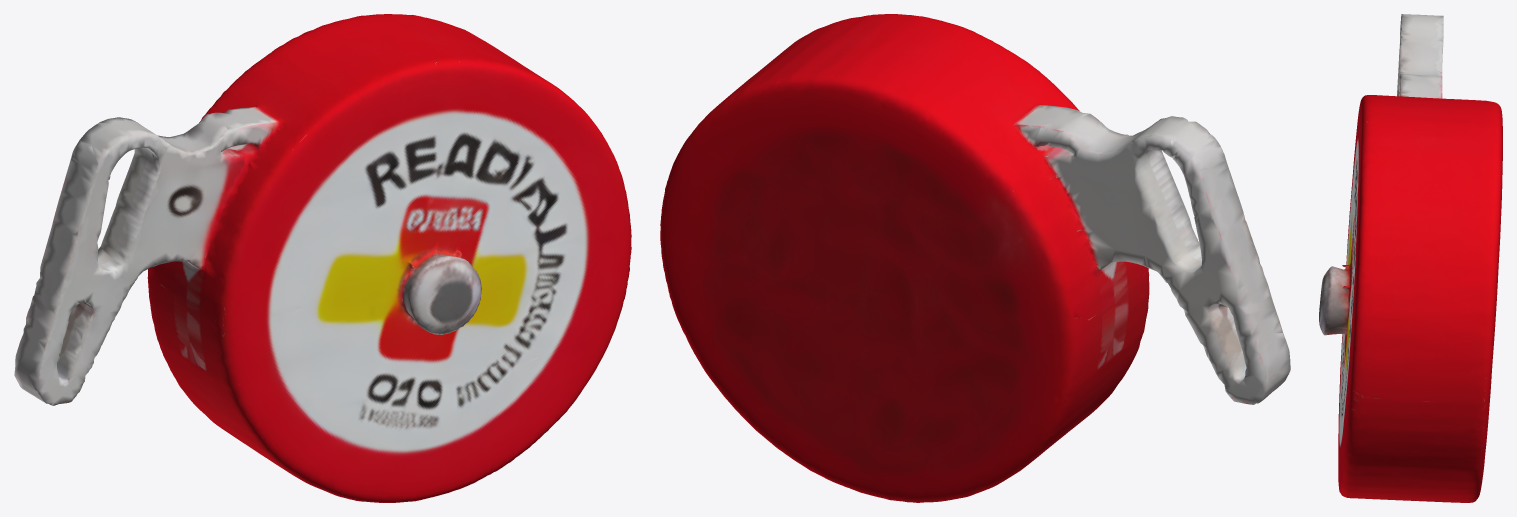
The model's file is base_basic_pbr.glb.
3 renders of one model, left to right at view 1: azimuth 30°, elevation 25°; view 2: azimuth 150°, elevation 25°; view 3: azimuth 270°, elevation 25°, orthographic. The views are drawn at different scales.
Visible parts, largest first — view 1: model; view 2: model; view 3: model.
Boxes of the visible parts, x1,y1,x2,y2 form: model: (14, 14, 631, 502); model: (660, 14, 1290, 502); model: (1319, 14, 1502, 502).
Bounding box in the file's own units: 1.9 × 1.36 × 0.6128.
Materials: 1 (1 with a texture image).
